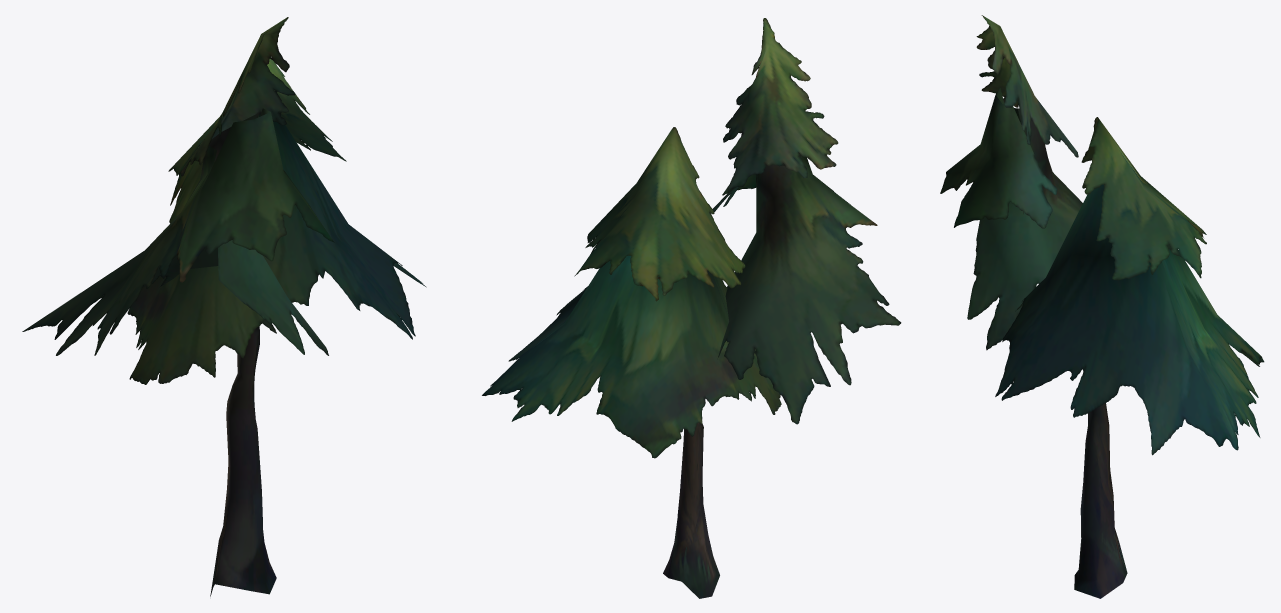
The model's file is pine_broad.glb.
The picture shows the model from 3 angles, left to right: view 1: azimuth 30°, elevation 25°; view 2: azimuth 150°, elevation 25°; view 3: azimuth 270°, elevation 25°; orthographic projection. The views are drawn at different scales.
Parts seen in each view (by area): view 1: pine_broad; view 2: pine_broad; view 3: pine_broad.
Part boxes in pixels (<box>): pine_broad: <box>22,17,426,596</box>; pine_broad: <box>482,18,901,598</box>; pine_broad: <box>940,15,1264,598</box>.
Size of the model in its own units: 1.34 by 2 by 1.05.
Materials: 1 (1 with a texture image).
